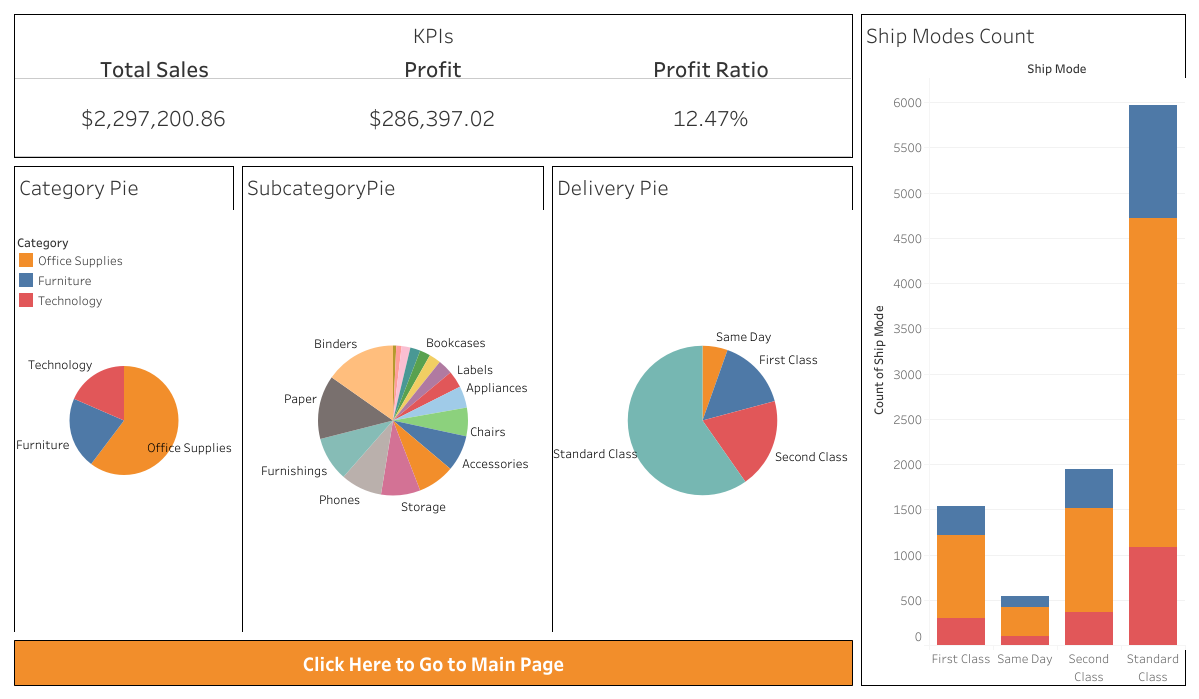

What the dashboard file says about the page in this screenshot:
{"tool":"tableau","page":{"name":"Dashboard Categories","canvas":[1200,700],"ordinal":0},"visuals":[{"type":"worksheet","title":"KPIs","mark":"Text","box":[10,10,847,152.2]},{"type":"worksheet","title":"Ship Modes Count","mark":"Automatic","rows":["Ship Mode"],"cols":["Ship Mode"],"box":[857,10,333,680]},{"type":"worksheet","title":"Category Pie","mark":"Pie","box":[10,162.2,228.3,473.8]},{"type":"worksheet","title":"SubcategoryPie","mark":"Pie","box":[238.3,162.2,309.3,473.8]},{"type":"worksheet","title":"Delivery Pie","mark":"Pie","box":[547.7,162.2,309.3,473.8]},{"type":"legend","title":"Category Pie","param":"[federated.1cjwt6l0jaw0pu14xddow1wtyck2].[none:Category:nk]","box":[16,231,140,91]},{"type":"dashboard-object","box":[10,636,847,54]}]}

Visuals, with their boxes in screenshot pixels (x1, y1, x2, y2), scaled from the page's 1200x700 canvas onto the 1199x699 screenshot:
"KPIs" worksheet (Text marks): [x1=10, y1=10, x2=856, y2=162]
"Ship Modes Count" worksheet: [x1=856, y1=10, x2=1189, y2=689]
"Category Pie" worksheet (Pie marks): [x1=10, y1=162, x2=238, y2=635]
"SubcategoryPie" worksheet (Pie marks): [x1=238, y1=162, x2=547, y2=635]
"Delivery Pie" worksheet (Pie marks): [x1=547, y1=162, x2=856, y2=635]
"Category Pie" legend: [x1=16, y1=231, x2=156, y2=322]
dashboard-object: [x1=10, y1=635, x2=856, y2=689]
